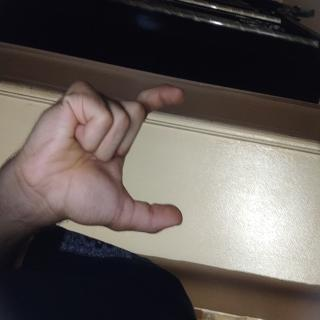NOON: (52, 173, 184, 320)
